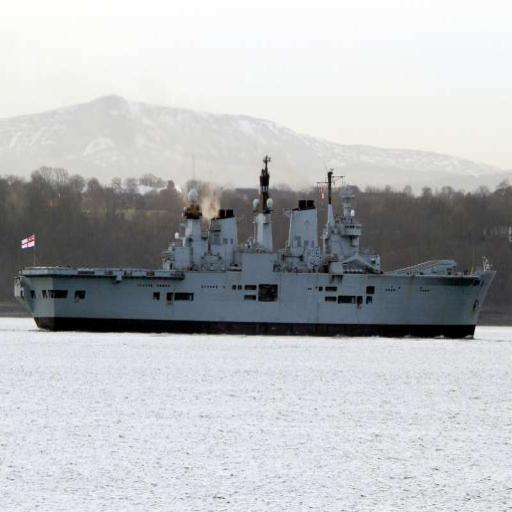Portanaves: (8, 143, 504, 338)
